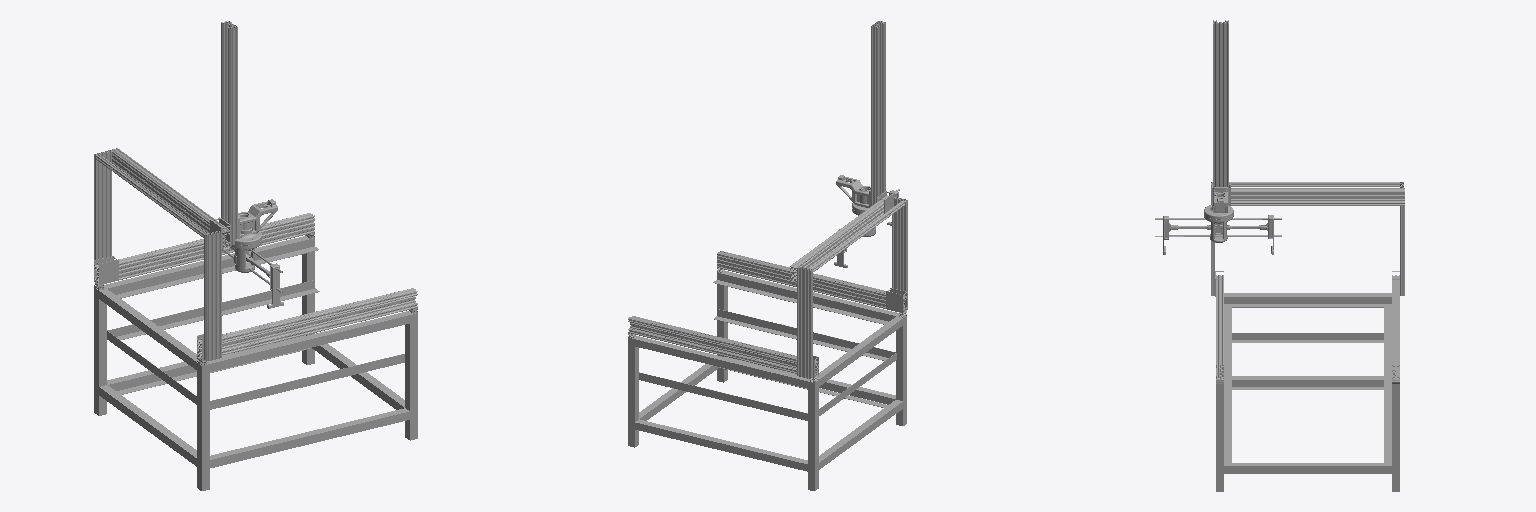
robot.urdf — robot_parametrico:
<?xml version="1.0" ?>
<!-- =================================================================================== -->
<!-- |    This document was autogenerated by xacro from src/robot_parametrico_description/urdf/robot_parametrico.xacro | -->
<!-- |    EDITING THIS FILE BY HAND IS NOT RECOMMENDED                                 | -->
<!-- =================================================================================== -->
<robot name="robot_parametrico">
  <material name="silver">
    <color rgba="0.700 0.700 0.700 1.000"/>
  </material>
  <link name="base_link">
    <inertial>
      <origin rpy="0 0 0" xyz="0.43921503377845217 0.427408676475863 0.362078018202456"/>
      <mass value="37.86668442780645"/>
      <inertia ixx="7.907859" ixy="-0.005887" ixz="0.388202" iyy="7.799111" iyz="0.02203" izz="11.474119"/>
    </inertial>
    <visual>
      <origin rpy="0 0 0" xyz="0 0 0"/>
      <geometry>
        <mesh filename="../meshes/base_link.stl" scale="0.001 0.001 0.001"/>
      </geometry>
      <material name="silver"/>
    </visual>
    <collision>
      <origin rpy="0 0 0" xyz="0 0 0"/>
      <geometry>
        <mesh filename="../meshes/base_link.stl" scale="0.001 0.001 0.001"/>
      </geometry>
    </collision>
  </link>
  <link name="x_link_1">
    <inertial>
      <origin rpy="0 0 0" xyz="0.07304147362950583 0.4248653819254315 0.4303742780789386"/>
      <mass value="4.549596714702044"/>
      <inertia ixx="0.826581" ixy="6e-06" ixz="-0.013361" iyy="0.176969" iyz="-3e-05" izz="0.662289"/>
    </inertial>
    <visual>
      <origin rpy="0 0 0" xyz="0.04 0.0 -0.6269"/>
      <geometry>
        <mesh filename="../meshes/x_link_1.stl" scale="0.001 0.001 0.001"/>
      </geometry>
      <material name="silver"/>
    </visual>
    <collision>
      <origin rpy="0 0 0" xyz="0.04 0.0 -0.6269"/>
      <geometry>
        <mesh filename="../meshes/x_link_1.stl" scale="0.001 0.001 0.001"/>
      </geometry>
    </collision>
  </link>
  <link name="y_link_1">
    <inertial>
      <origin rpy="0 0 0" xyz="-0.020000000000004015 0.04999970476166336 0.050695926755149445"/>
      <mass value="0.7973307511653405"/>
      <inertia ixx="0.001358" ixy="0.0" ixz="0.0" iyy="0.001079" iyz="-0.0" izz="0.00108"/>
    </inertial>
    <visual>
      <origin rpy="0 0 0" xyz="-0.0895 0.063318 -1.1484"/>
      <geometry>
        <mesh filename="../meshes/y_link_1.stl" scale="0.001 0.001 0.001"/>
      </geometry>
      <material name="silver"/>
    </visual>
    <collision>
      <origin rpy="0 0 0" xyz="-0.0895 0.063318 -1.1484"/>
      <geometry>
        <mesh filename="../meshes/y_link_1.stl" scale="0.001 0.001 0.001"/>
      </geometry>
    </collision>
  </link>
  <link name="z_link_1">
    <inertial>
      <origin rpy="0 0 0" xyz="0.022649381038521807 0.03848712470802383 0.5175000000000003"/>
      <mass value="6.4060223481477445"/>
      <inertia ixx="0.576368" ixy="1e-06" ixz="0.0" iyy="0.5728" iyz="-0.0" izz="0.005452"/>
    </inertial>
    <visual>
      <origin rpy="0 0 0" xyz="-0.0945 0.073318 -1.1484"/>
      <geometry>
        <mesh filename="../meshes/z_link_1.stl" scale="0.001 0.001 0.001"/>
      </geometry>
      <material name="silver"/>
    </visual>
    <collision>
      <origin rpy="0 0 0" xyz="-0.0945 0.073318 -1.1484"/>
      <geometry>
        <mesh filename="../meshes/z_link_1.stl" scale="0.001 0.001 0.001"/>
      </geometry>
    </collision>
  </link>
  <link name="robot_cabezal1_1">
    <inertial>
      <origin rpy="0 0 0" xyz="0.07470375860725009 1.1761516598023797e-05 0.07435169471155834"/>
      <mass value="0.735233698589477"/>
      <inertia ixx="0.001161" ixy="-0.0" ixz="-0.000677" iyy="0.002962" iyz="-0.0" izz="0.002526"/>
    </inertial>
    <visual>
      <origin rpy="0 0 0" xyz="-0.1345 0.034818 -1.1484"/>
      <geometry>
        <mesh filename="../meshes/robot_cabezal1_1.stl" scale="0.001 0.001 0.001"/>
      </geometry>
      <material name="silver"/>
    </visual>
    <collision>
      <origin rpy="0 0 0" xyz="-0.1345 0.034818 -1.1484"/>
      <geometry>
        <mesh filename="../meshes/robot_cabezal1_1.stl" scale="0.001 0.001 0.001"/>
      </geometry>
    </collision>
  </link>
  <link name="robot_Externo1_1">
    <inertial>
      <origin rpy="0 0 0" xyz="-2.3037127760972e-15 -2.940462493737639e-07 -0.0057971577024436005"/>
      <mass value="0.4348559362165023"/>
      <inertia ixx="0.000618" ixy="0.0" ixz="-0.0" iyy="0.000617" iyz="-0.0" izz="0.001131"/>
    </inertial>
    <visual>
      <origin rpy="0 0 0" xyz="-0.1845 0.024818 -1.1709"/>
      <geometry>
        <mesh filename="../meshes/robot_Externo1_1.stl" scale="0.001 0.001 0.001"/>
      </geometry>
      <material name="silver"/>
    </visual>
    <collision>
      <origin rpy="0 0 0" xyz="-0.1845 0.024818 -1.1709"/>
      <geometry>
        <mesh filename="../meshes/robot_Externo1_1.stl" scale="0.001 0.001 0.001"/>
      </geometry>
    </collision>
  </link>
  <link name="robot_cabezal_1">
    <inertial>
      <origin rpy="0 0 0" xyz="-0.0032788461990227724 -2.0130890293561243e-05 -0.05001506846643755"/>
      <mass value="0.808298897205994"/>
      <inertia ixx="0.002812" ixy="-0.0" ixz="-8.5e-05" iyy="0.002837" iyz="-1e-06" izz="0.001617"/>
    </inertial>
    <visual>
      <origin rpy="0 0 0" xyz="-0.1845 0.024818 -1.1509"/>
      <geometry>
        <mesh filename="../meshes/robot_cabezal_1.stl" scale="0.001 0.001 0.001"/>
      </geometry>
      <material name="silver"/>
    </visual>
    <collision>
      <origin rpy="0 0 0" xyz="-0.1845 0.024818 -1.1509"/>
      <geometry>
        <mesh filename="../meshes/robot_cabezal_1.stl" scale="0.001 0.001 0.001"/>
      </geometry>
    </collision>
  </link>
  <link name="robot_mg996R_1">
    <inertial>
      <origin rpy="0 0 0" xyz="-0.008872223124904793 0.004961019065556179 0.024744331551719734"/>
      <mass value="0.24706042811522722"/>
      <inertia ixx="4.3e-05" ixy="-0.0" ixz="-0.0" iyy="6.5e-05" iyz="-0.0" izz="3.8e-05"/>
    </inertial>
    <visual>
      <origin rpy="0 0 0" xyz="-0.164022 0.029908 -1.0354"/>
      <geometry>
        <mesh filename="../meshes/robot_mg996R_1.stl" scale="0.001 0.001 0.001"/>
      </geometry>
      <material name="silver"/>
    </visual>
    <collision>
      <origin rpy="0 0 0" xyz="-0.164022 0.029908 -1.0354"/>
      <geometry>
        <mesh filename="../meshes/robot_mg996R_1.stl" scale="0.001 0.001 0.001"/>
      </geometry>
    </collision>
  </link>
  <link name="robot_Servo_horn__1">
    <inertial>
      <origin rpy="0 0 0" xyz="0.00031264063733987824 1.8085460379568818e-06 0.0"/>
      <mass value="0.005099610361289279"/>
      <!-- Estimacion por integracion volumetrica del STL (densidad uniforme),
         escalada a la masa CAD de 0.005099610361289279 kg; unidades kg*m^2. -->
      <inertia ixx="2.40436962e-7" ixy="5.04782604e-10" ixz="-1.93631163e-14" iyy="1.25310030e-7" iyz="9.16374540e-14" izz="1.25307736e-7"/>
    </inertial>
    <visual>
      <origin rpy="0 0 0" xyz="-0.176 0.024856 -1.0699"/>
      <geometry>
        <mesh filename="../meshes/robot_Servo_horn__1.stl" scale="0.001 0.001 0.001"/>
      </geometry>
      <material name="silver"/>
    </visual>
    <collision>
      <origin rpy="0 0 0" xyz="-0.176 0.024856 -1.0699"/>
      <geometry>
        <mesh filename="../meshes/robot_Servo_horn__1.stl" scale="0.001 0.001 0.001"/>
      </geometry>
    </collision>
  </link>
  <link name="robot_Externo3_v1_1_v1_1">
    <inertial>
      <origin rpy="0 0 0" xyz="0.0011958212378408717 5.026564255675159e-06 2.220446049250313e-16"/>
      <mass value="0.07977197198617901"/>
      <inertia ixx="3e-05" ixy="0.0" ixz="0.0" iyy="5e-06" iyz="-0.0" izz="2.6e-05"/>
    </inertial>
    <visual>
      <origin rpy="0 0 0" xyz="-0.1795 0.02484 -1.0699"/>
      <geometry>
        <mesh filename="../meshes/robot_Externo3_v1_1_v1_1.stl" scale="0.001 0.001 0.001"/>
      </geometry>
      <material name="silver"/>
    </visual>
    <collision>
      <origin rpy="0 0 0" xyz="-0.1795 0.02484 -1.0699"/>
      <geometry>
        <mesh filename="../meshes/robot_Externo3_v1_1_v1_1.stl" scale="0.001 0.001 0.001"/>
      </geometry>
    </collision>
  </link>
  <link name="robot_Paleta_1_v1_1">
    <inertial>
      <origin rpy="0 0 0" xyz="-0.004431038032916501 -0.10701997078977854 -2.292271994441819e-08"/>
      <mass value="0.05350927460261899"/>
      <inertia ixx="0.000258" ixy="1e-06" ixz="-0.0" iyy="3e-06" iyz="-0.0" izz="0.000259"/>
    </inertial>
    <visual>
      <origin rpy="0 0 0" xyz="-0.18461 0.049818 -1.0699"/>
      <geometry>
        <mesh filename="../meshes/robot_Paleta_1_v1_1.stl" scale="0.001 0.001 0.001"/>
      </geometry>
      <material name="silver"/>
    </visual>
    <collision>
      <origin rpy="0 0 0" xyz="-0.18461 0.049818 -1.0699"/>
      <geometry>
        <mesh filename="../meshes/robot_Paleta_1_v1_1.stl" scale="0.001 0.001 0.001"/>
      </geometry>
    </collision>
  </link>
  <link name="robot_Paleta_2_v1_1">
    <inertial>
      <origin rpy="0 0 0" xyz="-0.005368451064228202 0.10697734098803442 2.2922720610552005e-08"/>
      <mass value="0.05350927460261899"/>
      <inertia ixx="0.000258" ixy="1e-06" ixz="0.0" iyy="3e-06" iyz="-0.0" izz="0.000259"/>
    </inertial>
    <visual>
      <origin rpy="0 0 0" xyz="-0.17639 -0.000146 -1.0699"/>
      <geometry>
        <mesh filename="../meshes/robot_Paleta_2_v1_1.stl" scale="0.001 0.001 0.001"/>
      </geometry>
      <material name="silver"/>
    </visual>
    <collision>
      <origin rpy="0 0 0" xyz="-0.17639 -0.000146 -1.0699"/>
      <geometry>
        <mesh filename="../meshes/robot_Paleta_2_v1_1.stl" scale="0.001 0.001 0.001"/>
      </geometry>
    </collision>
  </link>
  <link name="robot_Pala_IZQ_v1_1">
    <inertial>
      <origin rpy="0 0 0" xyz="-0.003882672739056403 -0.026794905479833042 -0.019023121817092425"/>
      <mass value="0.1680843406216635"/>
      <inertia ixx="0.000488" ixy="-0.0" ixz="0.0" iyy="0.000494" iyz="-2.9e-05" izz="4.1e-05"/>
    </inertial>
    <visual>
      <origin rpy="0 0 0" xyz="-0.185548 0.263816 -1.0699"/>
      <geometry>
        <mesh filename="../meshes/robot_Pala_IZQ_v1_1.stl" scale="0.001 0.001 0.001"/>
      </geometry>
      <material name="silver"/>
    </visual>
    <collision>
      <origin rpy="0 0 0" xyz="-0.185548 0.263816 -1.0699"/>
      <geometry>
        <mesh filename="../meshes/robot_Pala_IZQ_v1_1.stl" scale="0.001 0.001 0.001"/>
      </geometry>
    </collision>
  </link>
  <link name="robot_Pala_DER_v1_1">
    <inertial>
      <origin rpy="0 0 0" xyz="0.00388284382809731 0.026795274188178148 -0.019023121817093536"/>
      <mass value="0.1680843406216635"/>
      <inertia ixx="0.000488" ixy="-0.0" ixz="-0.0" iyy="0.000494" iyz="2.9e-05" izz="4.1e-05"/>
    </inertial>
    <visual>
      <origin rpy="0 0 0" xyz="-0.165652 -0.214101 -1.0699"/>
      <geometry>
        <mesh filename="../meshes/robot_Pala_DER_v1_1.stl" scale="0.001 0.001 0.001"/>
      </geometry>
      <material name="silver"/>
    </visual>
    <collision>
      <origin rpy="0 0 0" xyz="-0.165652 -0.214101 -1.0699"/>
      <geometry>
        <mesh filename="../meshes/robot_Pala_DER_v1_1.stl" scale="0.001 0.001 0.001"/>
      </geometry>
    </collision>
  </link>
  <link name="soporte_1_1">
    <inertial>
      <origin rpy="0 0 0" xyz="-0.0014033395286560946 0.3199967836864103 1.3322676295501878e-15"/>
      <mass value="0.07497096708526683"/>
      <inertia ixx="0.00256" ixy="1.1e-05" ixz="0.0" iyy="2e-06" iyz="0.0" izz="0.00256"/>
    </inertial>
    <visual>
      <origin rpy="0 0 0" xyz="-0.181728 0.304833 -1.1179"/>
      <geometry>
        <mesh filename="../meshes/soporte_1_1.stl" scale="0.001 0.001 0.001"/>
      </geometry>
      <material name="silver"/>
    </visual>
    <collision>
      <origin rpy="0 0 0" xyz="-0.181728 0.304833 -1.1179"/>
      <geometry>
        <mesh filename="../meshes/soporte_1_1.stl" scale="0.001 0.001 0.001"/>
      </geometry>
    </collision>
  </link>
  <link name="soporte_2_1">
    <inertial>
      <origin rpy="0 0 0" xyz="-0.00140333952865615 0.31999678368641016 1.5543122344752192e-15"/>
      <mass value="0.07497096708526683"/>
      <inertia ixx="0.00256" ixy="1.1e-05" ixz="-0.0" iyy="2e-06" iyz="0.0" izz="0.00256"/>
    </inertial>
    <visual>
      <origin rpy="0 0 0" xyz="-0.181728 0.304833 -1.0219"/>
      <geometry>
        <mesh filename="../meshes/soporte_2_1.stl" scale="0.001 0.001 0.001"/>
      </geometry>
      <material name="silver"/>
    </visual>
    <collision>
      <origin rpy="0 0 0" xyz="-0.181728 0.304833 -1.0219"/>
      <geometry>
        <mesh filename="../meshes/soporte_2_1.stl" scale="0.001 0.001 0.001"/>
      </geometry>
    </collision>
  </link>
  <joint name="x_joint" type="prismatic">
    <origin rpy="0 0 0" xyz="-0.04 0.0 0.6269"/>
    <parent link="base_link"/>
    <child link="x_link_1"/>
    <axis xyz="-1.0 -0.0 -0.0"/>
    <limit effort="100" lower="-0.9" upper="0.0" velocity="100"/>
  </joint>
  <joint name="y_joint" type="prismatic">
    <origin rpy="0 0 0" xyz="0.1295 -0.063318 0.5215"/>
    <parent link="x_link_1"/>
    <child link="y_link_1"/>
    <axis xyz="-0.0 1.0 0.0"/>
    <limit effort="100" lower="0.0" upper="0.65" velocity="100"/>
  </joint>
  <joint name="z_joint" type="prismatic">
    <origin rpy="0 0 0" xyz="0.005 0.0 0.0"/>
    <parent link="y_link_1"/>
    <child link="z_link_1"/>
    <axis xyz="-0.0 -0.0 -1.0"/>
    <limit effort="100" lower="0.0" upper="0.935" velocity="100"/>
  </joint>
  <joint name="rigida_1" type="fixed">
    <origin rpy="0 0 0" xyz="0.04 0.0385 0.0"/>
    <parent link="z_link_1"/>
    <child link="robot_cabezal1_1"/>
  </joint>
  <joint name="r_joint" type="revolute">
    <origin rpy="0 0 0" xyz="0.05 0.0 0.0225"/>
    <parent link="robot_cabezal1_1"/>
    <child link="robot_Externo1_1"/>
    <axis xyz="0.0 -0.0 -1.0"/>
    <limit effort="100" lower="-1.570796" upper="1.570796" velocity="100"/>
  </joint>
  <joint name="rigida_2" type="fixed">
    <origin rpy="0 0 0" xyz="0.0 0.0 -0.02"/>
    <parent link="robot_Externo1_1"/>
    <child link="robot_cabezal_1"/>
  </joint>
  <joint name="rigida_3" type="fixed">
    <origin rpy="0 0 0" xyz="-0.020478 -0.00509 -0.1155"/>
    <parent link="robot_cabezal_1"/>
    <child link="robot_mg996R_1"/>
  </joint>
  <joint name="rigida_4" type="fixed">
    <origin rpy="0 0 0" xyz="0.011978 0.005052 0.0345"/>
    <parent link="robot_mg996R_1"/>
    <child link="robot_Servo_horn__1"/>
  </joint>
  <joint name="rigida_5" type="fixed">
    <origin rpy="0 0 0" xyz="0.0035 1.6e-05 0.0"/>
    <parent link="robot_Servo_horn__1"/>
    <child link="robot_Externo3_v1_1_v1_1"/>
  </joint>
  <joint name="grid_izq" type="prismatic">
    <origin rpy="0 0 0" xyz="0.00511 -0.024978 0.0"/>
    <parent link="robot_Externo3_v1_1_v1_1"/>
    <child link="robot_Paleta_1_v1_1"/>
    <axis xyz="-0.004384 0.99999 -0.0"/>
    <limit effort="100" lower="-0.04" upper="0.04" velocity="100"/>
    <!-- Un solo mando: grid_der. Ambos ejes tienen el mismo sentido. -->
    <mimic joint="grid_der" multiplier="-1" offset="0"/>
  </joint>
  <joint name="grid_der" type="prismatic">
    <origin rpy="0 0 0" xyz="0.00511 0.024986 0.0"/>
    <parent link="robot_Externo3_v1_1_v1_1"/>
    <child link="robot_Paleta_2_v1_1"/>
    <axis xyz="-0.004384 0.99999 -0.0"/>
    <limit effort="100" lower="-0.04" upper="0.04" velocity="100"/>
  </joint>
  <joint name="rigida_6" type="fixed">
    <origin rpy="0 0 0" xyz="0.000938 -0.213998 0.0"/>
    <parent link="robot_Paleta_1_v1_1"/>
    <child link="robot_Pala_IZQ_v1_1"/>
  </joint>
  <joint name="rigida_7" type="fixed">
    <origin rpy="0 0 0" xyz="-0.010738 0.213955 0.0"/>
    <parent link="robot_Paleta_2_v1_1"/>
    <child link="robot_Pala_DER_v1_1"/>
  </joint>
  <joint name="rigida_8" type="fixed">
    <origin rpy="0 0 0" xyz="0.000197 -0.32 -0.033"/>
    <parent link="robot_cabezal_1"/>
    <child link="soporte_1_1"/>
  </joint>
  <joint name="rigida_9" type="fixed">
    <origin rpy="0 0 0" xyz="0.000197 -0.32 -0.129"/>
    <parent link="robot_cabezal_1"/>
    <child link="soporte_2_1"/>
  </joint>
</robot>

--- Facts derived from the render (not from the file) ---
The picture shows the robot from 3 angles, left to right: view 1: azimuth 30°, elevation 25°; view 2: azimuth 150°, elevation 25°; view 3: azimuth 270°, elevation 25°; orthographic projection.
Model robot_parametrico with 16 links and 15 joints (1 revolute, 5 prismatic, 9 fixed), rooted at base_link, posed every joint at zero.
Visible links, largest first — view 1: base_link, x_link_1, z_link_1, robot_cabezal1_1; view 2: base_link, x_link_1, z_link_1, robot_cabezal1_1; view 3: base_link, x_link_1, z_link_1.
Link boxes in pixels (bbox=[...]): base_link: bbox=[94, 213, 417, 490]; x_link_1: bbox=[94, 148, 229, 361]; z_link_1: bbox=[221, 21, 237, 245]; robot_cabezal1_1: bbox=[238, 199, 277, 238]; base_link: bbox=[628, 251, 906, 490]; x_link_1: bbox=[790, 195, 907, 378]; z_link_1: bbox=[871, 21, 885, 205]; robot_cabezal1_1: bbox=[836, 175, 870, 207]; base_link: bbox=[1216, 275, 1399, 491]; x_link_1: bbox=[1211, 182, 1404, 296]; z_link_1: bbox=[1213, 20, 1228, 205].
Bounding box of the posed robot: 1.08 × 1.26 × 2.18 m (x, y, z).
16 mesh visuals loaded from 16 distinct referenced files (16 binary STL).
